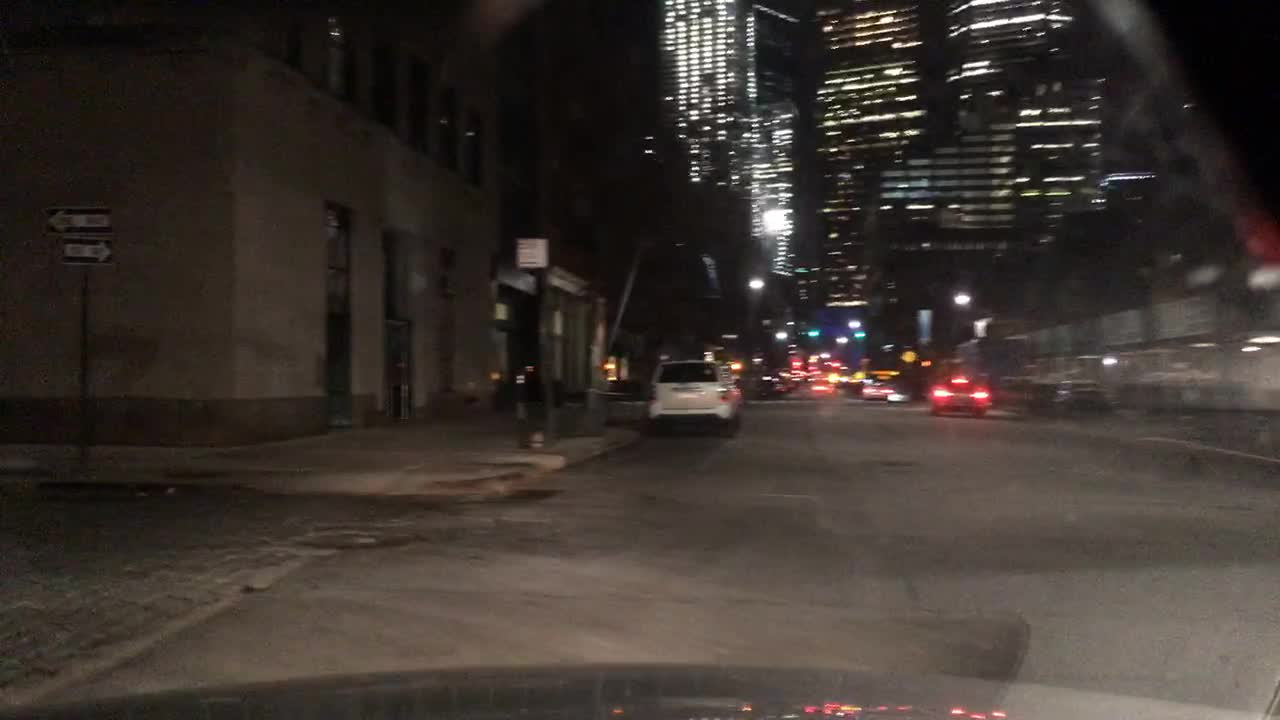car: (644, 357, 745, 439), (927, 370, 991, 416), (1050, 379, 1112, 417), (992, 373, 1046, 410), (828, 369, 867, 389), (861, 379, 896, 400), (756, 375, 791, 396), (804, 379, 835, 397), (788, 368, 823, 383)
traffic sign: (43, 208, 111, 236), (54, 241, 112, 263), (515, 240, 546, 269)
